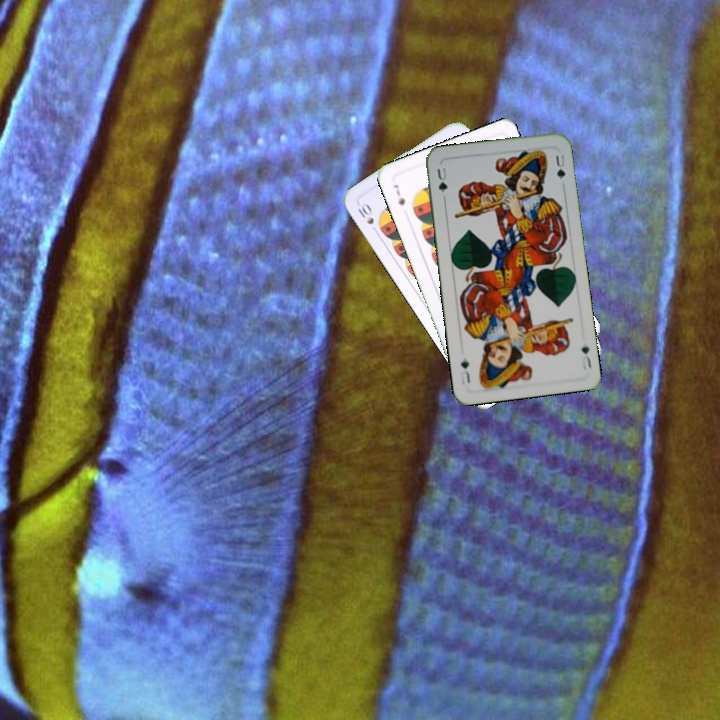GU: (433, 163, 450, 195), (577, 342, 594, 372)
S10: (352, 199, 381, 236)
S7: (390, 180, 408, 208)
